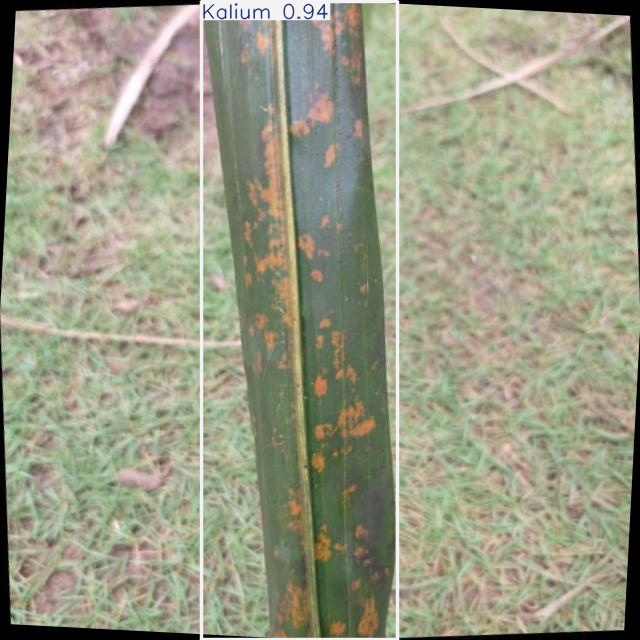Kalium: (202, 2, 398, 639)
